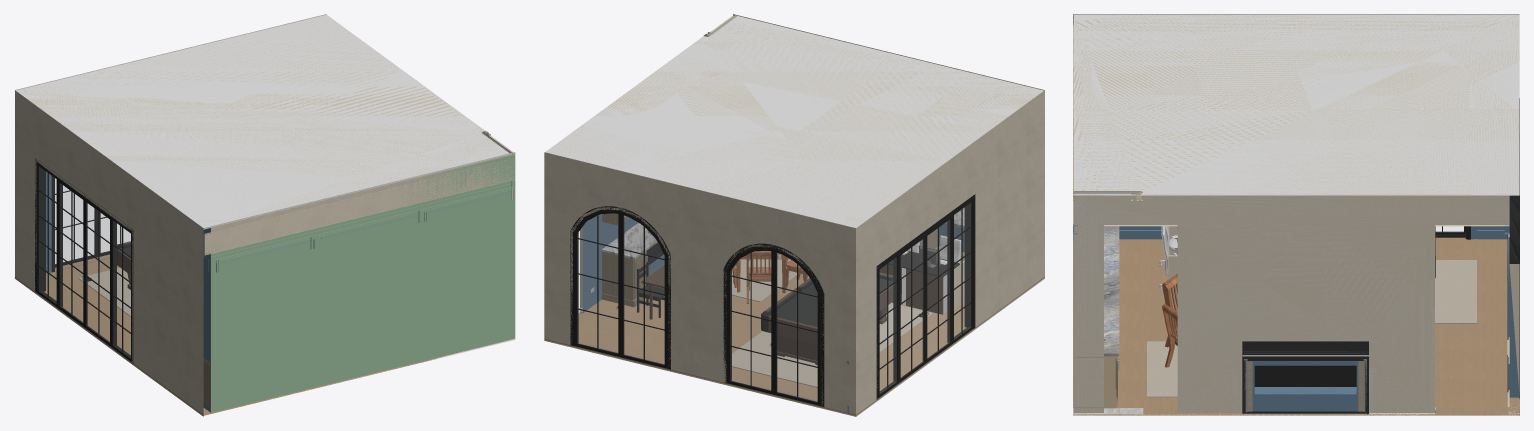
File: game-room-2f7f606e872e.glb
3 views of the same model, side by side, from view 1: azimuth 30°, elevation 25°; view 2: azimuth 150°, elevation 25°; view 3: azimuth 270°, elevation 25° (orthographic). The views are drawn at different scales.
Visible parts, largest first — view 1: game-room-4a969f5cc1ae3dfe, game-room-30c5953c9ad73e5d, game-room-039192b0560cfac3, game-room-50d54560d247b537, game-room-9fbf623a647a21dd, game-room-2575515a05775d9e, game-room-3b0077416469e01b, game-room-67b6630d0fa028c8, game-room-8b1c368f4645b32b, game-room-bd62734a7bc60eb7, game-room-67f50005143d10e9, game-room-76fec1e12e3db62a; view 2: game-room-4a969f5cc1ae3dfe, game-room-969b861f9850351e, game-room-039192b0560cfac3, game-room-50d54560d247b537, game-room-67b6630d0fa028c8, game-room-b7bc8997c06ae95e, game-room-9fbf623a647a21dd, game-room-3b0077416469e01b, game-room-7e27048eb38fd2e0, game-room-67f50005143d10e9, game-room-7702f65bebcbcfe5, game-room-3e6709f91b43c3bf (+7 smaller); view 3: game-room-4a969f5cc1ae3dfe, game-room-3e6709f91b43c3bf, game-room-50d54560d247b537, game-room-55ff1dfd7b659ec1, game-room-3b0077416469e01b, game-room-be466a48328c943d, game-room-7ee86ede15340c02, game-room-67f50005143d10e9, game-room-b441e3c3bf4dbad3, game-room-6406bffcd6948b80, game-room-17e2c43ba4c79eae, game-room-969b861f9850351e (+8 smaller).
Boxes of the visible parts, x1,y1,x2,y2 form: game-room-4a969f5cc1ae3dfe: (15,14,511,229); game-room-30c5953c9ad73e5d: (210,155,515,412); game-room-039192b0560cfac3: (15,92,210,414); game-room-50d54560d247b537: (15,14,512,228); game-room-9fbf623a647a21dd: (35,158,133,363); game-room-2575515a05775d9e: (204,158,515,255); game-room-3b0077416469e01b: (15,254,513,415); game-room-67b6630d0fa028c8: (51,176,130,272); game-room-8b1c368f4645b32b: (211,180,511,260); game-room-bd62734a7bc60eb7: (203,153,515,231); game-room-67f50005143d10e9: (78,267,130,316); game-room-76fec1e12e3db62a: (15,278,515,416); game-room-4a969f5cc1ae3dfe: (544,16,1044,229); game-room-969b861f9850351e: (544,153,848,412); game-room-039192b0560cfac3: (848,91,1044,414); game-room-50d54560d247b537: (544,15,1044,228); game-room-67b6630d0fa028c8: (723,243,824,406); game-room-b7bc8997c06ae95e: (570,206,670,369); game-room-9fbf623a647a21dd: (876,194,975,399); game-room-3b0077416469e01b: (544,273,1044,415); game-room-7e27048eb38fd2e0: (761,272,901,364); game-room-67f50005143d10e9: (732,303,932,387); game-room-7702f65bebcbcfe5: (901,235,961,314); game-room-3e6709f91b43c3bf: (582,214,638,312); game-room-4a969f5cc1ae3dfe: (1073,14,1519,195); game-room-3e6709f91b43c3bf: (1074,194,1509,412); game-room-50d54560d247b537: (1073,14,1519,194); game-room-55ff1dfd7b659ec1: (1073,194,1509,414); game-room-3b0077416469e01b: (1073,237,1519,415); game-room-be466a48328c943d: (1242,341,1368,414); game-room-7ee86ede15340c02: (1252,361,1358,411); game-room-67f50005143d10e9: (1435,260,1476,323); game-room-b441e3c3bf4dbad3: (1254,365,1356,386); game-room-6406bffcd6948b80: (1104,254,1119,356); game-room-17e2c43ba4c79eae: (1147,341,1177,397); game-room-969b861f9850351e: (1509,194,1519,414).
Size of the model in its own units: 6.15 by 3.56 by 6.46.
Materials: 55 (14 with a texture image).
